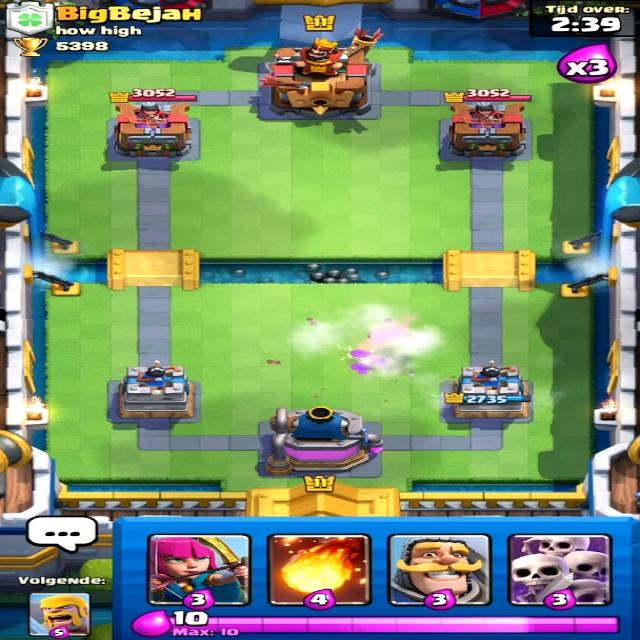Fireball_Card: (260, 532, 380, 608)
